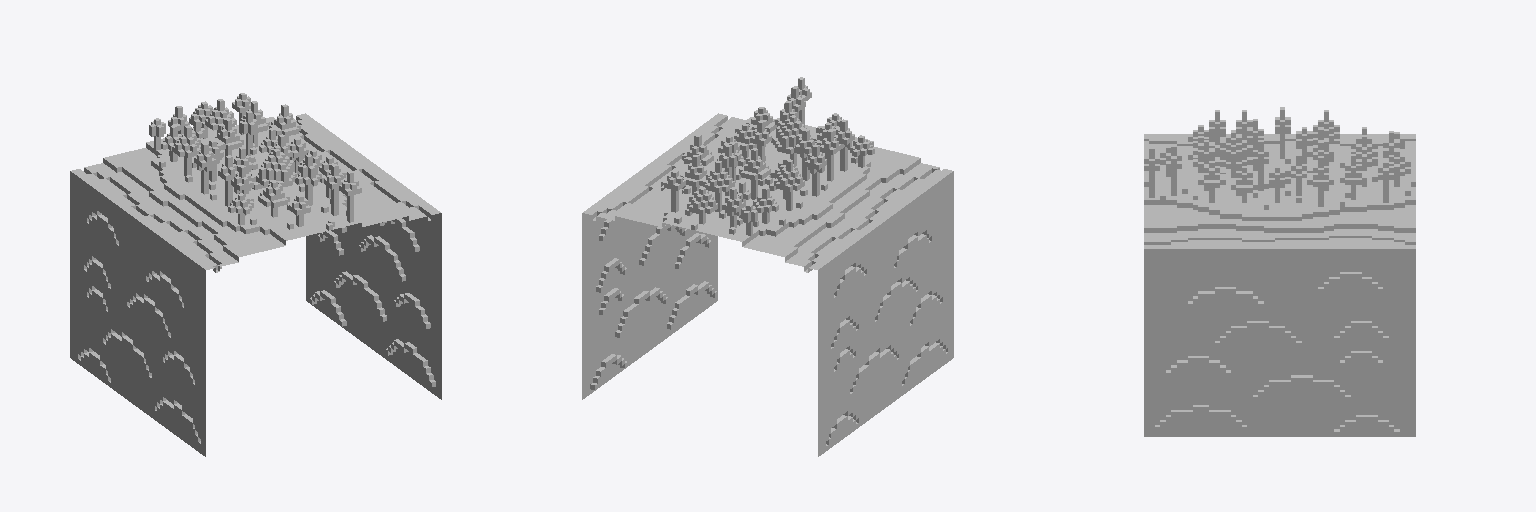
File: 2sidesOP.obj
3 renders of one model, left to right at view 1: azimuth 30°, elevation 25°; view 2: azimuth 150°, elevation 25°; view 3: azimuth 270°, elevation 25°, orthographic.
Parts seen in each view (by area): view 1: Untitled.006; view 2: Untitled.006; view 3: Untitled.006.
Part boxes in pixels (x1,y1,x2,y2): Untitled.006: (70, 93, 441, 456); Untitled.006: (582, 77, 953, 456); Untitled.006: (1144, 107, 1415, 436).
Bounding box in the file's own units: 5 × 5 × 5.